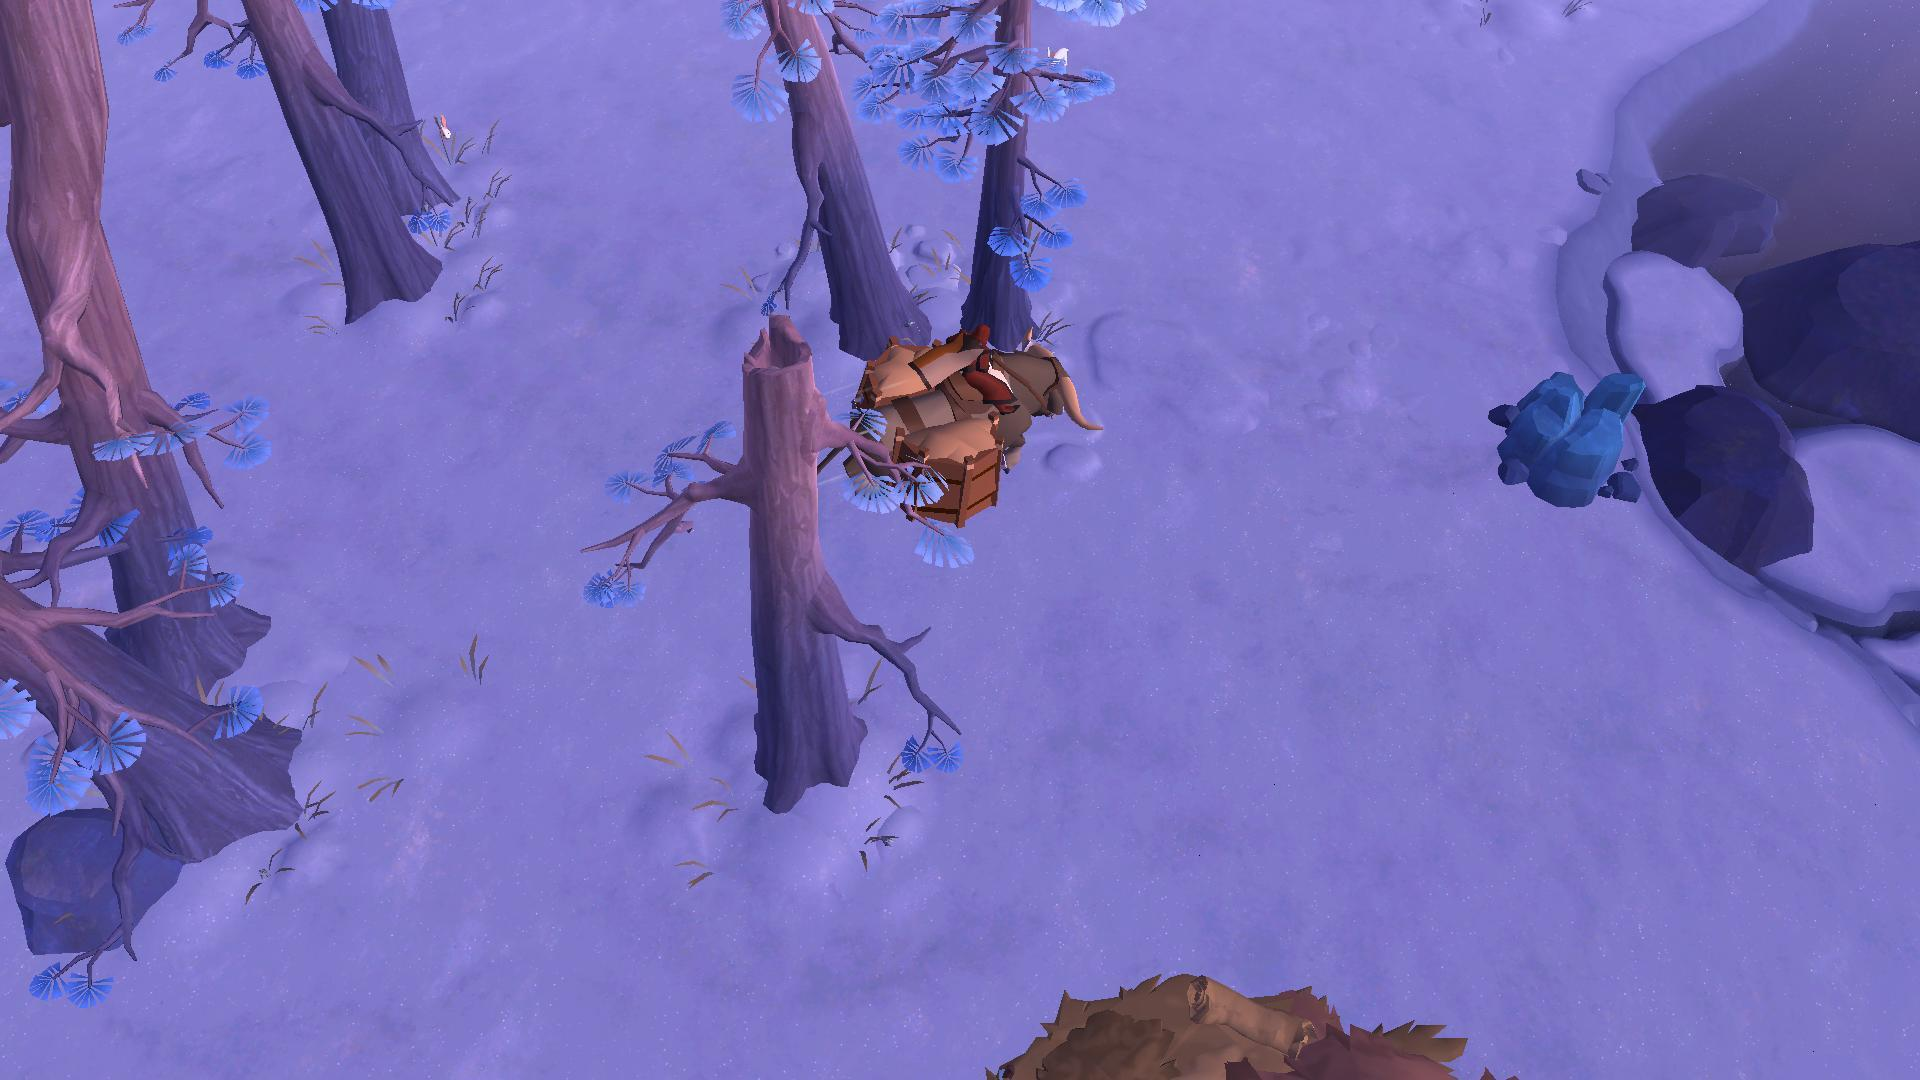rock_t4: (1484, 368, 1646, 509)
